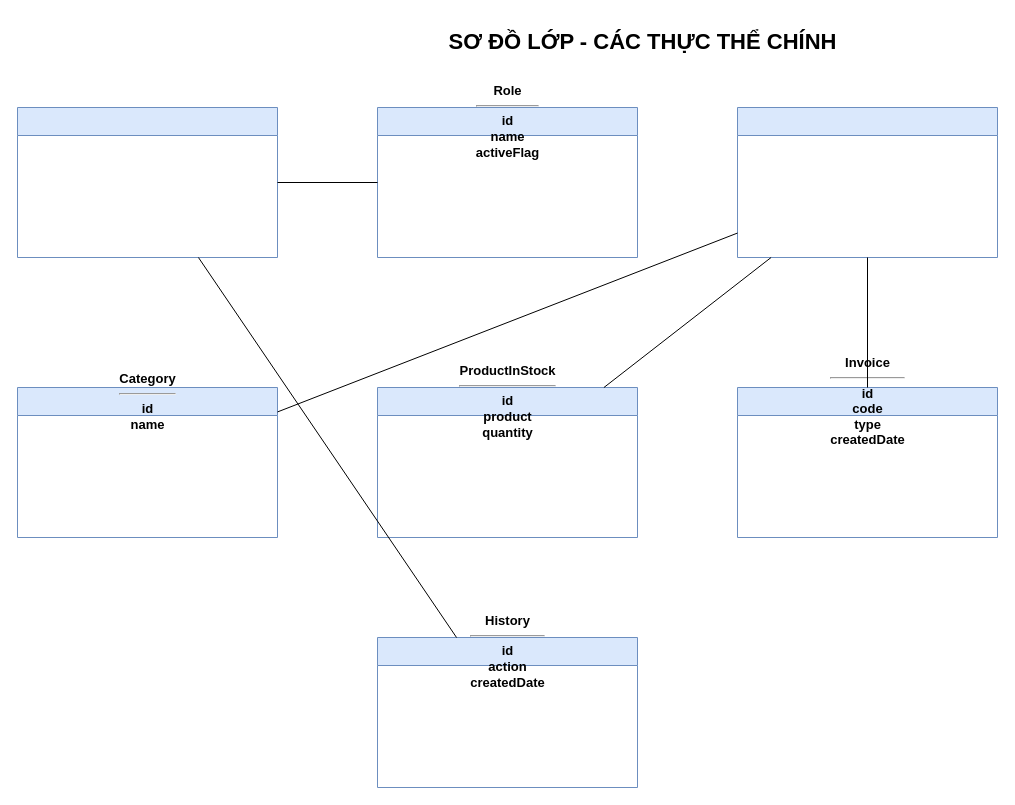
The diagram is 1015 pixels wide and 805 high, and some of its shapes have lost their labels. Here are the shapes that lost their labels. From the top down, the centre of each, then its label:
At point (147, 182): "Users id userName password activeFlag".
At point (867, 182): "ProductInfo id name code quantity price".
